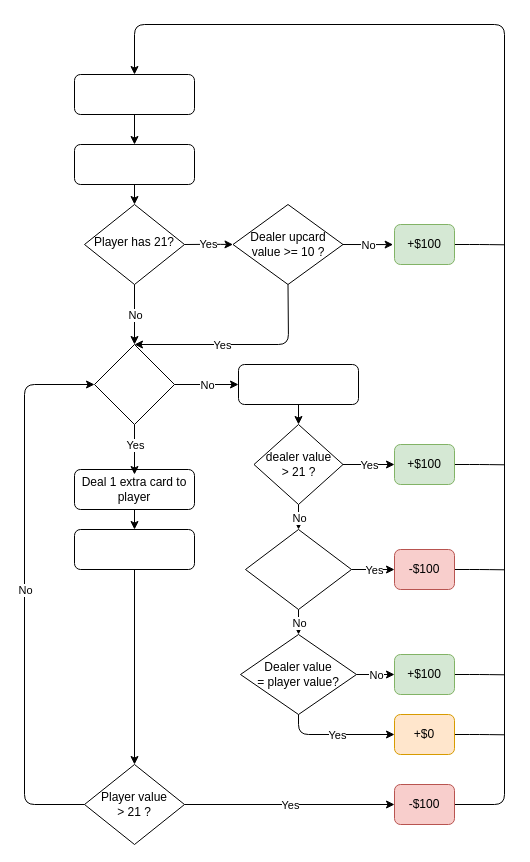
This 530x862 diagram has some shape labels left out. The shapes that lost their labels are listed below. From the top down, each one's centre as x and y in pixels, then its label:
At pixel 134 94: "Deal player and dealer hand".
At pixel 134 164: "Evaluate dealer and player hands".
At pixel 134 384: "Player hits?".
At pixel 298 384: "Dealer's turn".
At pixel 134 549: "Evaluate player hand".
At pixel 298 569: "Dealer value > player value?".
